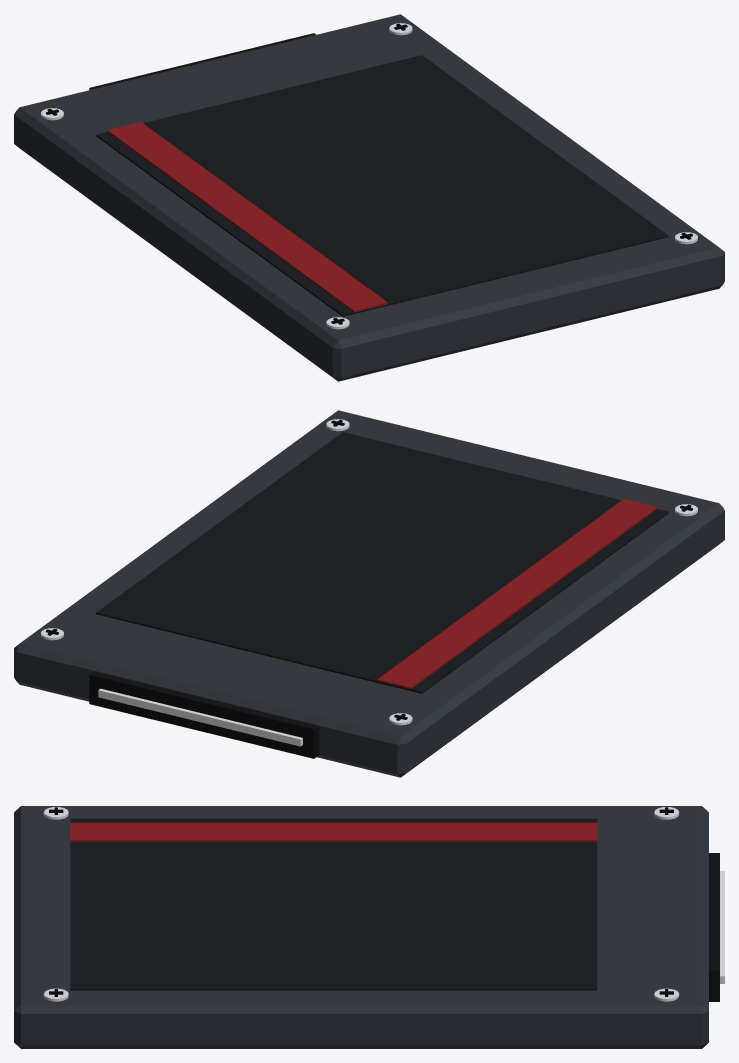
The model's file is hw_sto_ssd_2tb.glb.
3 renders of one model, top to bottom at view 1: azimuth 30°, elevation 25°; view 2: azimuth 150°, elevation 25°; view 3: azimuth 270°, elevation 25°, orthographic. The views are drawn at different scales.
Parts seen in each view (by area): view 1: Body; view 2: Body; view 3: Body.
Boxes of the visible parts, box(x1,y1,x2,y2) form: Body: box(14, 14, 724, 381); Body: box(14, 410, 724, 777); Body: box(14, 806, 724, 1048).
Size of the model in its own units: 0.0698 by 0.00767 by 0.1025.
